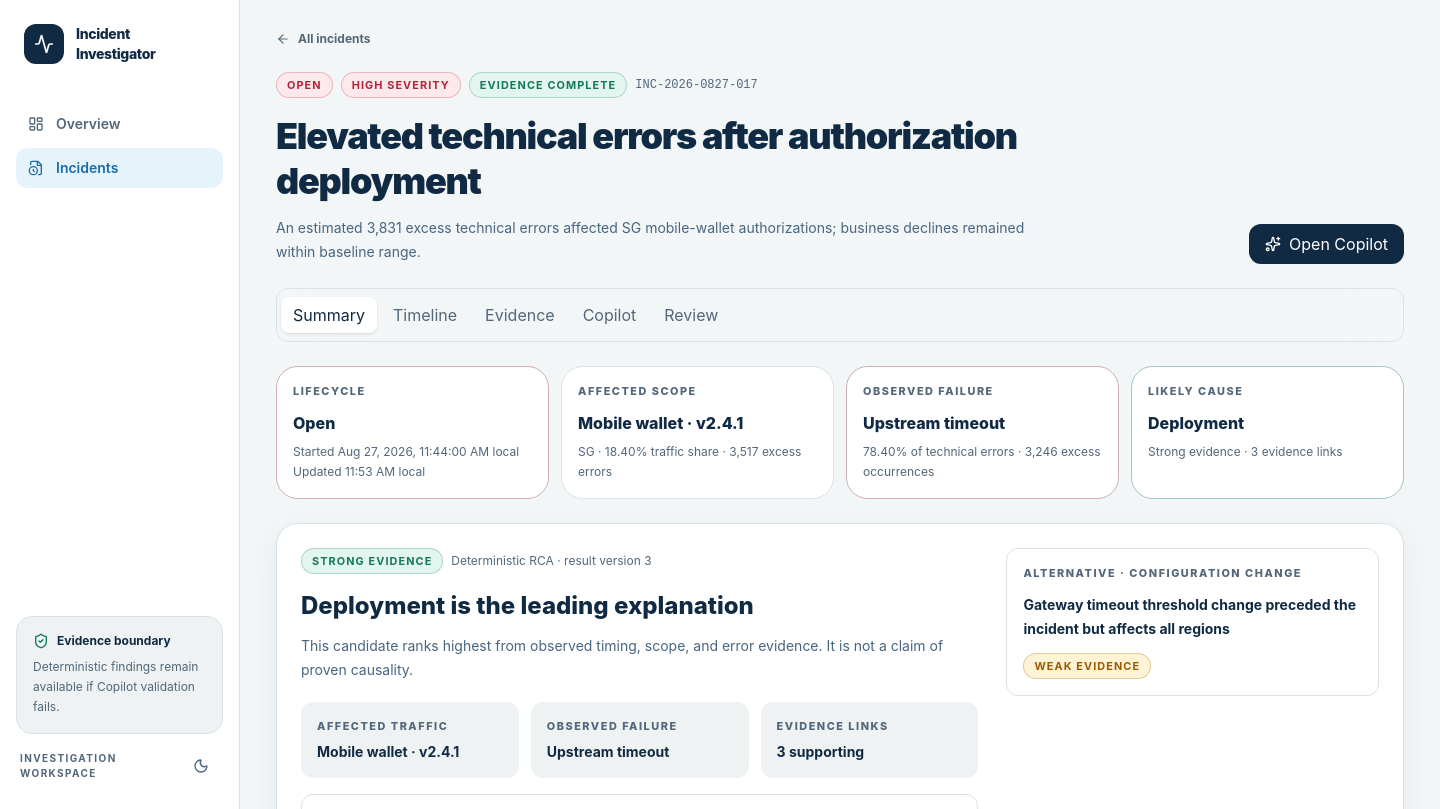
it: validates a rejecting human review note
Click the tab "Review" at (691, 315), box left=652, top=297, right=730, bottom=333
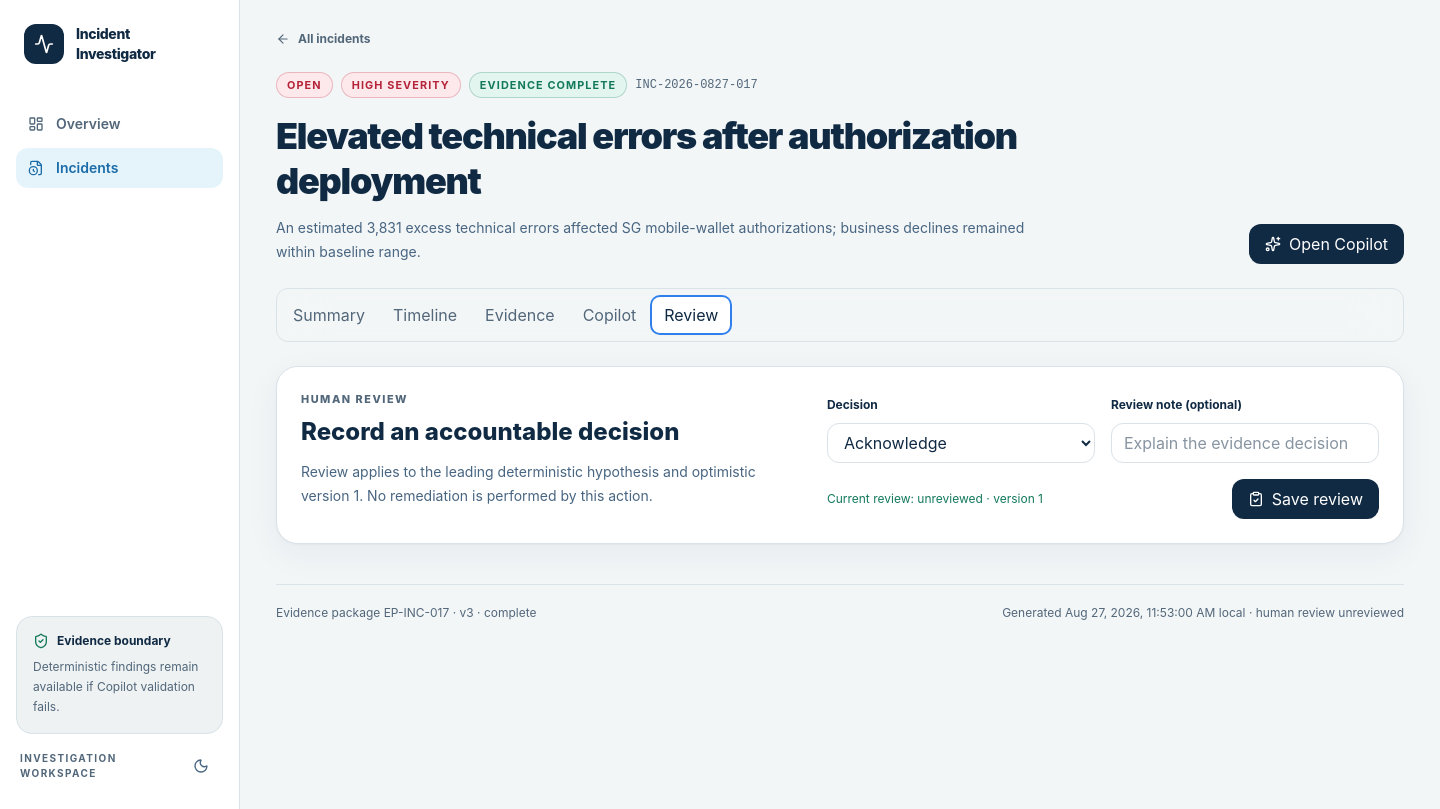
Select "Reject" in the dropdown labelled "Decision" at (961, 443), box left=827, top=423, right=1095, bottom=463
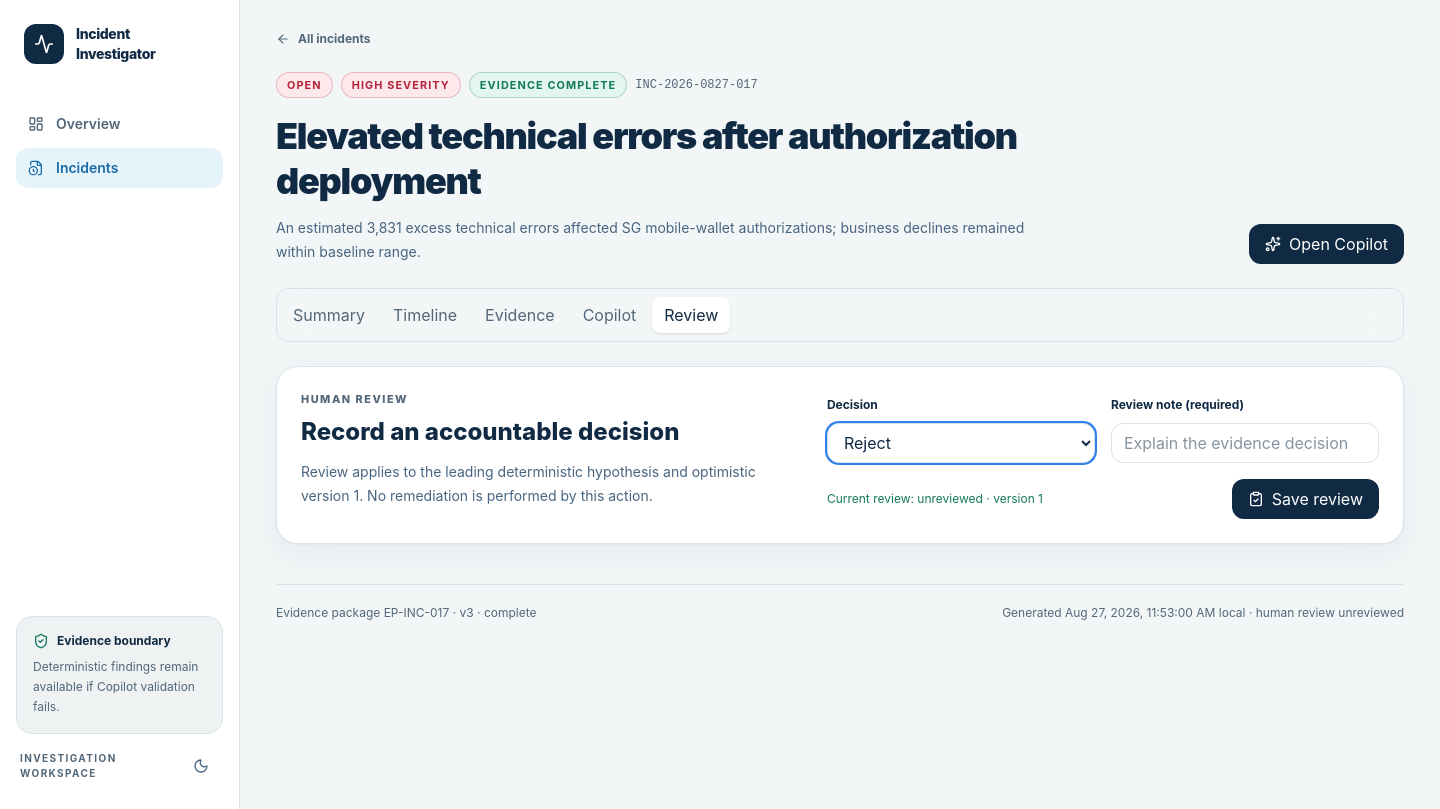
Click the button "Save review" at (1305, 499), box left=1232, top=479, right=1379, bottom=519
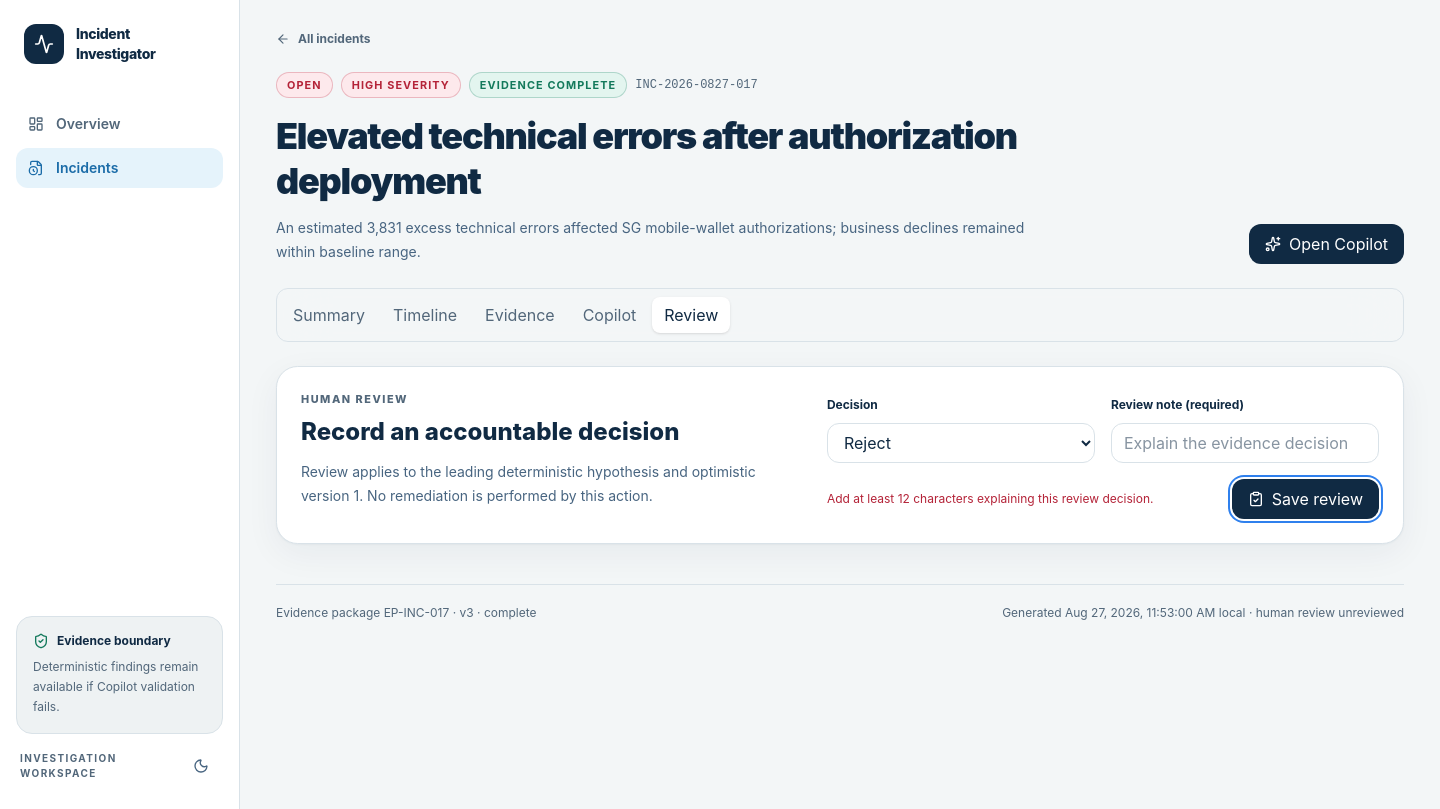
Now the message shows "at least 12 characters", box left=827, top=491, right=1154, bottom=506
